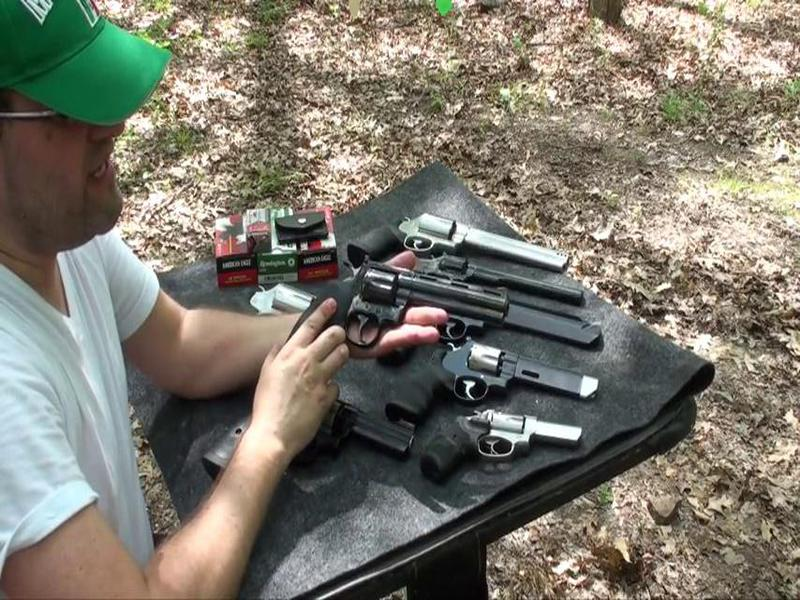Revolver: (270, 250, 501, 384)
